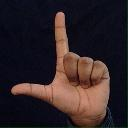hand: (10, 11, 110, 127)
